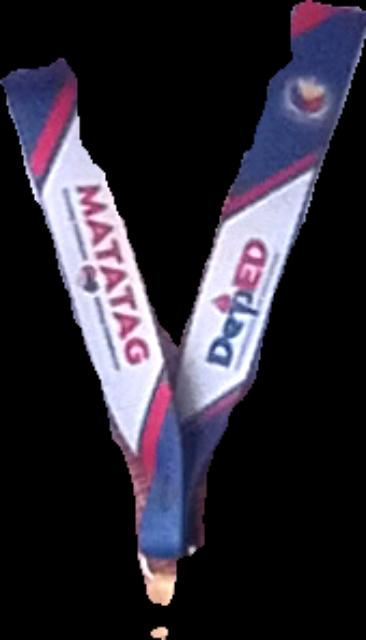id lace: (0, 0, 365, 605)
